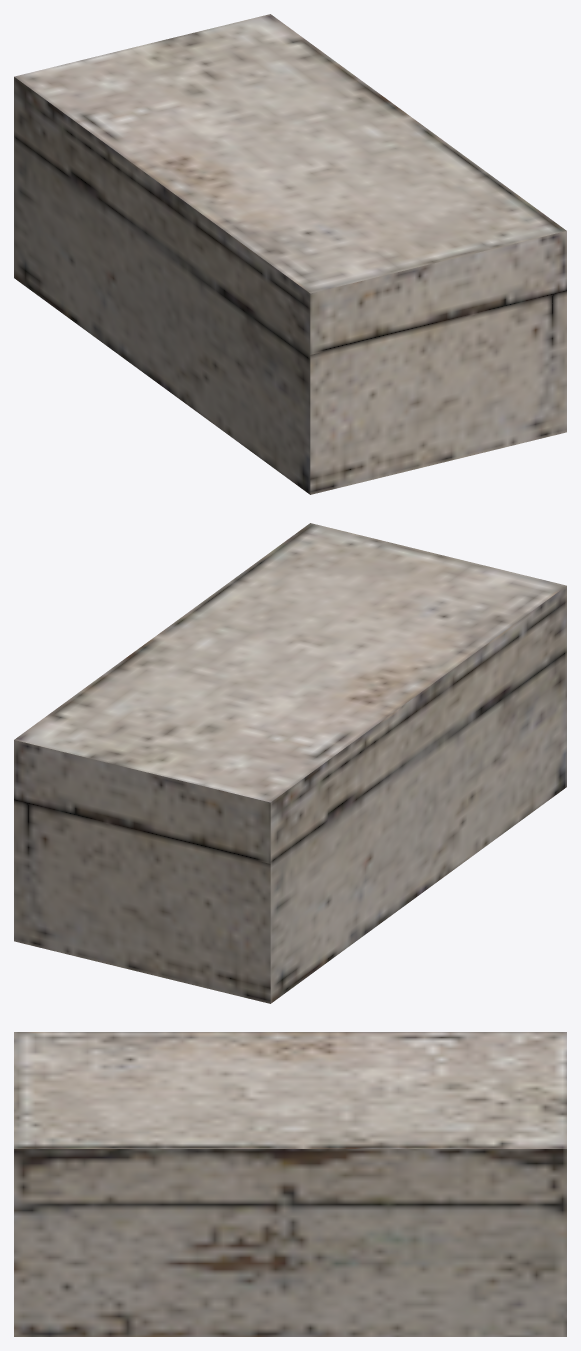
The model's file is Crate03b.obj.
3 views of the same model, one above another, from view 1: azimuth 30°, elevation 25°; view 2: azimuth 150°, elevation 25°; view 3: azimuth 270°, elevation 25° (orthographic). The views are drawn at different scales.
Parts seen in each view (by area): view 1: Crate03b.Lid, Crate03b; view 2: Crate03b.Lid, Crate03b; view 3: Crate03b.Lid, Crate03b.
Part boxes in pixels (x1,y1,x2,y2): Crate03b.Lid: [14, 14, 566, 354]; Crate03b: [14, 138, 566, 494]; Crate03b.Lid: [14, 523, 566, 863]; Crate03b: [14, 647, 566, 1003]; Crate03b.Lid: [14, 1032, 566, 1206]; Crate03b: [14, 1206, 566, 1336].
Bounding box in the file's own units: 0.5 × 0.375 × 1.
